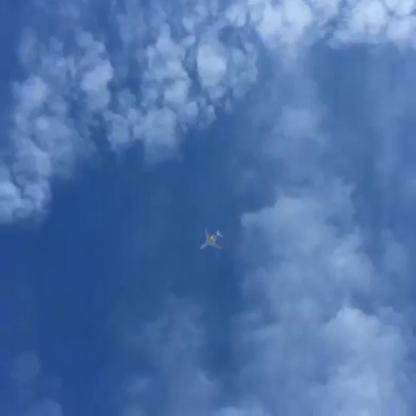aircraft: (200, 226, 225, 250)
